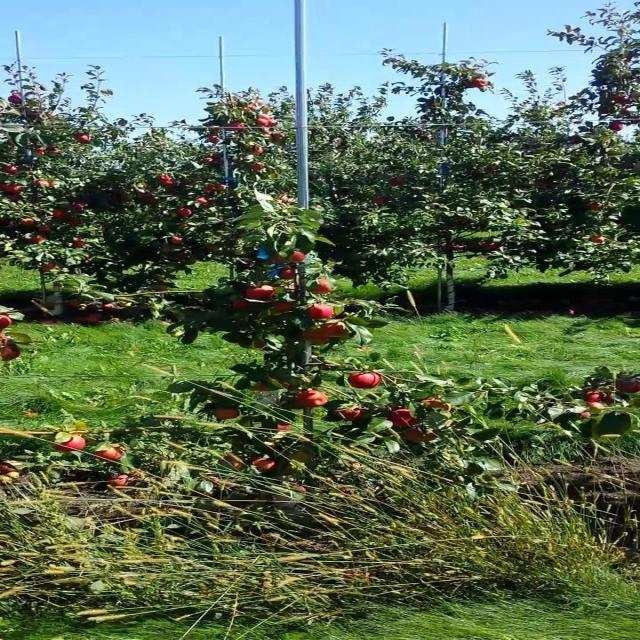apple: (293, 389, 329, 409), (387, 408, 418, 428), (51, 434, 87, 451), (347, 371, 380, 389), (404, 426, 438, 442), (249, 378, 289, 391), (244, 285, 276, 301), (93, 446, 124, 461), (320, 322, 349, 338), (309, 276, 333, 294), (302, 329, 329, 345), (336, 406, 364, 421), (107, 472, 133, 488), (307, 305, 336, 319), (616, 378, 640, 394), (422, 398, 451, 411), (222, 454, 244, 471), (325, 325, 351, 339), (251, 458, 276, 472), (211, 408, 240, 420), (0, 344, 20, 361), (278, 266, 298, 280), (271, 301, 296, 312), (1, 460, 20, 474), (231, 299, 253, 311), (582, 390, 602, 402), (268, 252, 286, 263), (289, 251, 307, 262), (600, 392, 613, 404), (276, 422, 290, 431), (253, 340, 267, 349), (0, 332, 10, 344), (587, 402, 604, 409), (578, 411, 591, 419)
